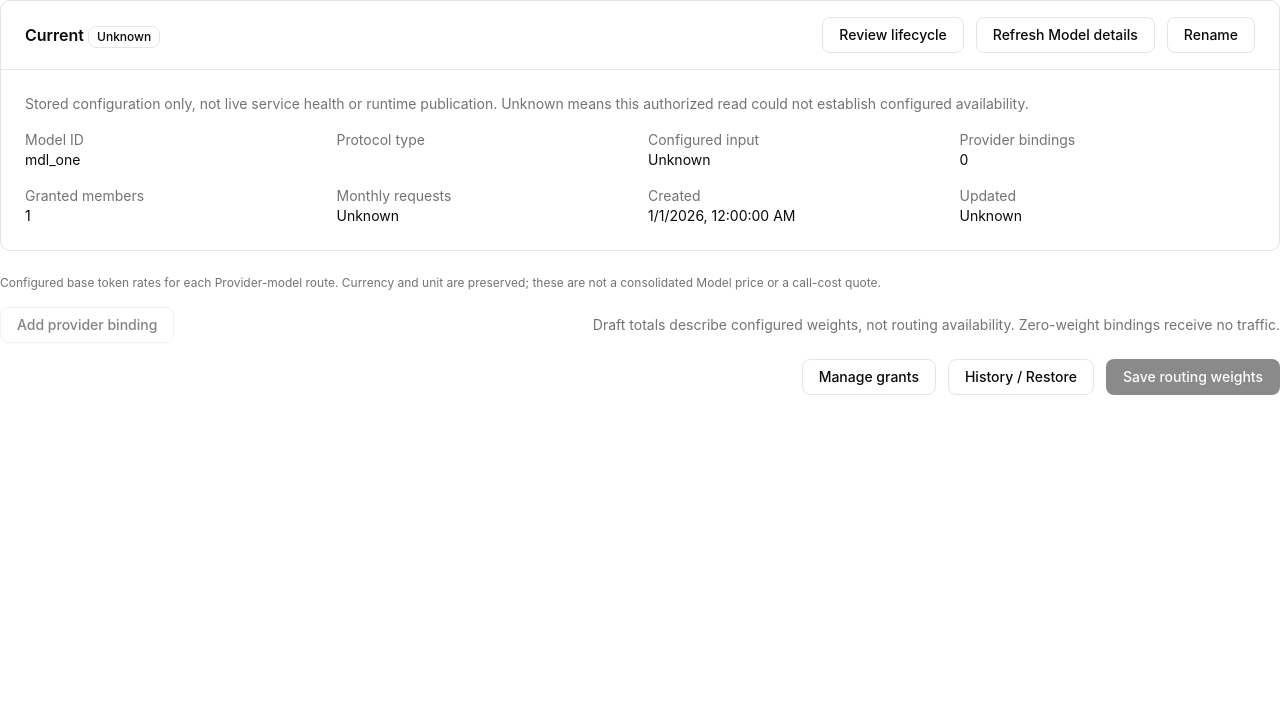
it: reversible Model lifecycle review › does not offer an active-to-archive shortcut
Step 1. Click the button "Review lifecycle" → (893,35), box [822,17,964,53]
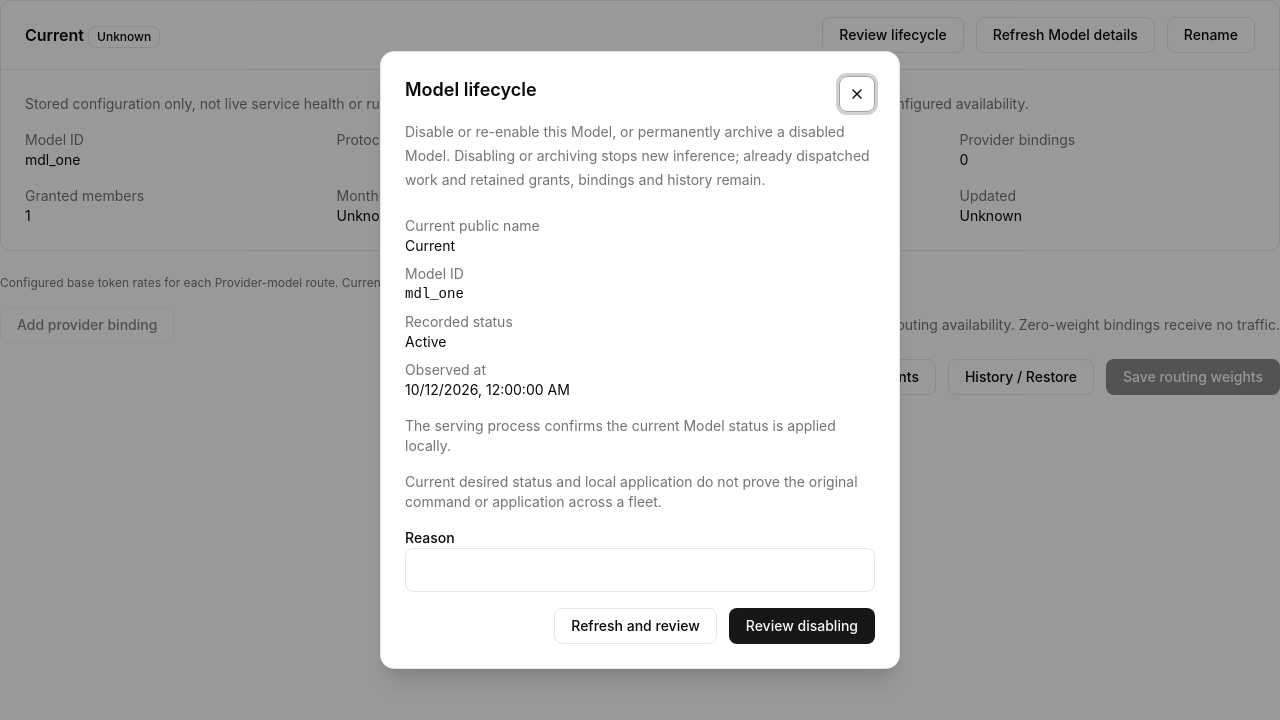
Expected: the dialog shows "Observed at", [405,361,486,378]
